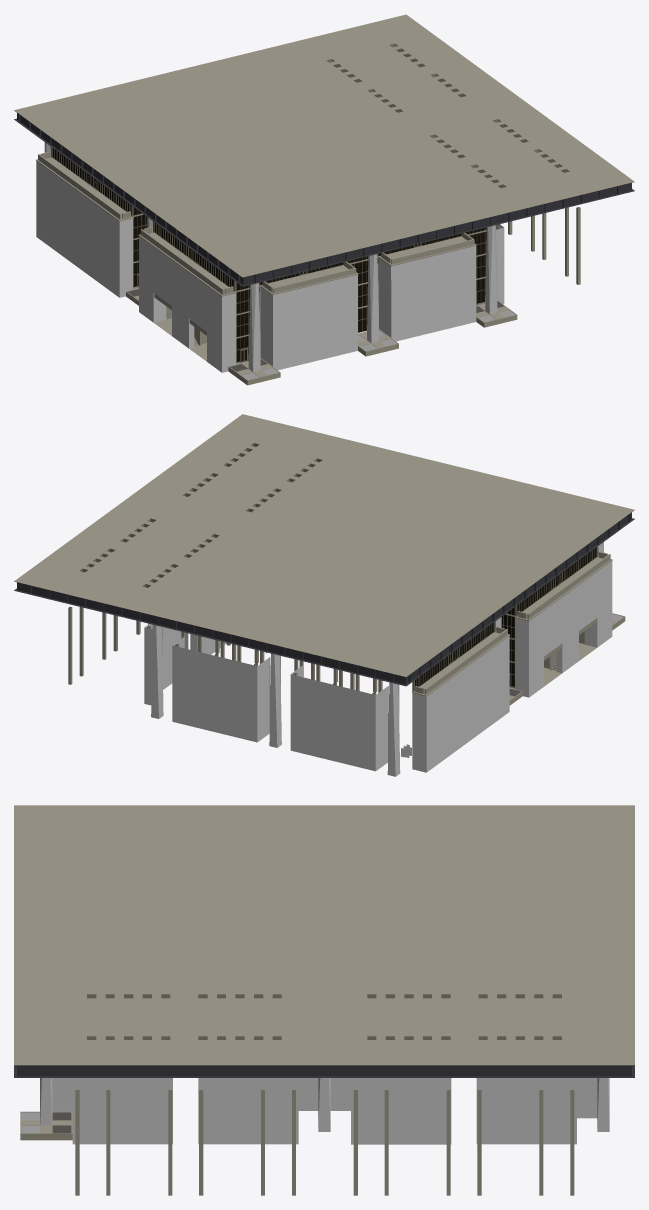
The model's file is SEL-W.fbx.
3 renders of one model, top to bottom at view 1: azimuth 30°, elevation 25°; view 2: azimuth 150°, elevation 25°; view 3: azimuth 270°, elevation 25°, orthographic. The views are drawn at different scales.
Visible parts, largest first — view 1: SEL-W-Roof, SELW-ExteriorWalls, SEL-MainColumn.006, SEL-MainColumn, SEL-MainColumn.005, SEL-ColumnBase1, SEL-Window6x6Door-Segment.002, SEL-Window-BalconySegment1.001, SEL-Window8x4-Segment, SEL-Window-BalconySegment1, SEL-ColumnBase1.002, SEL-ColumnBase1.001 (+2 smaller); view 2: SEL-W-Roof, SELW-ExteriorWalls, SEL-MainColumn.008, SEL-MainColumn.003, SEL-MainColumn.002, SEL-Window-BalconySegment1.001, SEL-Window-BalconySegment1, SEL-Window6x6Door-Segment2.001, SELW1-DockWalls; view 3: SEL-W-Roof, SELW-ExteriorWalls, SEL-ColumnBase1.002, SEL-MainColumn.008, SEL-MainColumn.007, SEL-MainColumn.006.
Boxes of the visible parts, x1,y1,x2,y2 form: SEL-W-Roof: (14, 14, 634, 286); SELW-ExteriorWalls: (36, 147, 504, 372); SEL-MainColumn.006: (485, 225, 497, 314); SEL-MainColumn: (248, 283, 260, 371); SEL-MainColumn.005: (367, 254, 379, 343); SEL-ColumnBase1: (228, 358, 280, 385); SEL-Window6x6Door-Segment.002: (468, 230, 486, 304); SEL-Window-BalconySegment1.001: (154, 222, 233, 286); SEL-Window8x4-Segment: (351, 258, 378, 332); SEL-Window-BalconySegment1: (52, 147, 131, 214); SEL-ColumnBase1.002: (476, 301, 517, 327); SEL-ColumnBase1.001: (358, 329, 398, 356); SEL-W-Roof: (14, 414, 634, 686); SELW-ExteriorWalls: (144, 546, 612, 772); SEL-MainColumn.008: (151, 624, 163, 718); SEL-MainColumn.003: (269, 653, 281, 747); SEL-MainColumn.002: (387, 682, 400, 776); SEL-Window-BalconySegment1.001: (517, 547, 596, 614); SEL-Window-BalconySegment1: (415, 622, 494, 686); SEL-Window6x6Door-Segment2.001: (501, 607, 516, 688); SELW1-DockWalls: (544, 631, 596, 686); SEL-W-Roof: (14, 805, 634, 1077); SELW-ExteriorWalls: (52, 1078, 597, 1144); SEL-ColumnBase1.002: (20, 1111, 72, 1140); SEL-MainColumn.008: (597, 1078, 609, 1131); SEL-MainColumn.007: (318, 1078, 330, 1131); SEL-MainColumn.006: (40, 1078, 52, 1125).
Size of the model in its own units: 7580 by 2082 by 7650.
